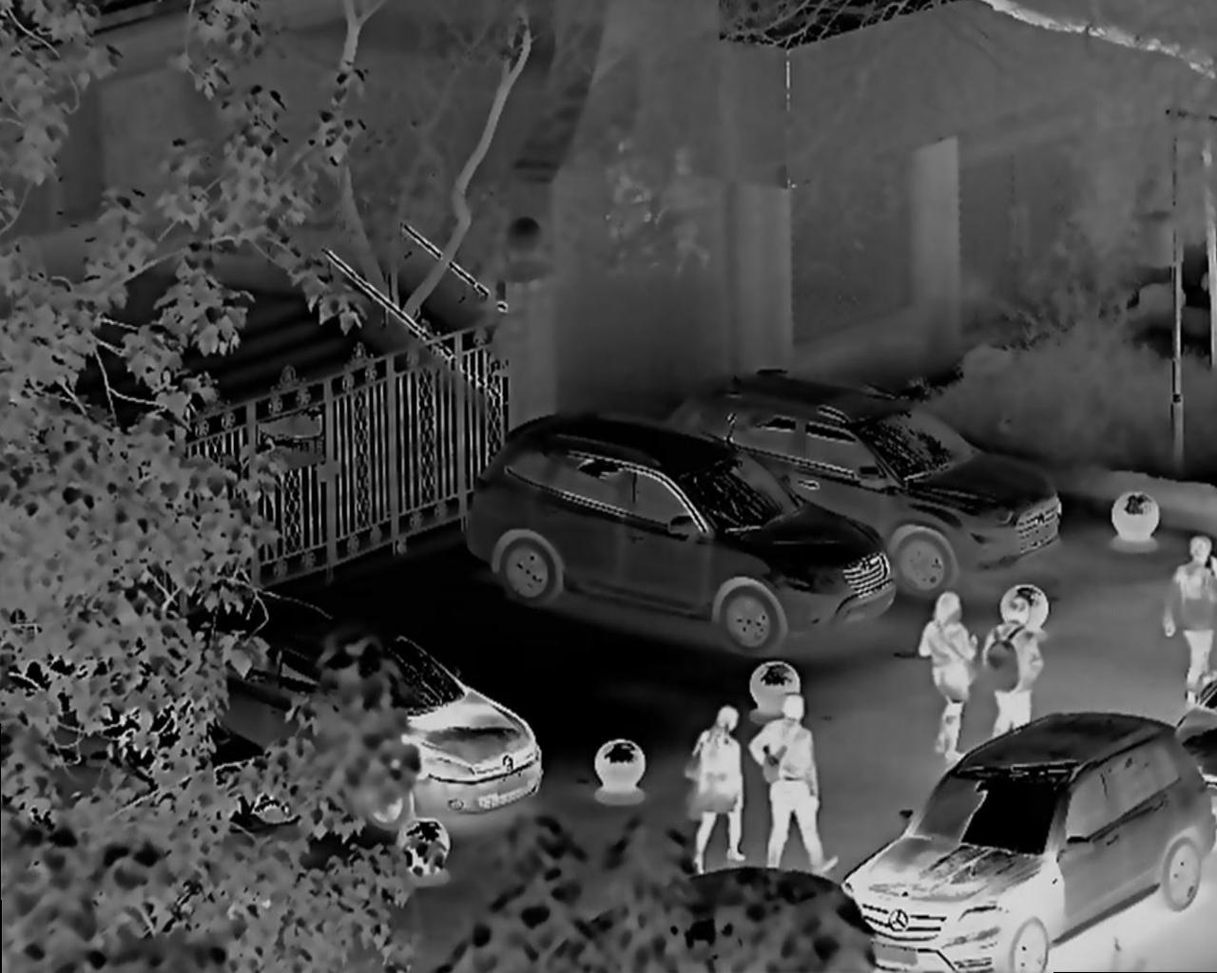person: (751, 684, 845, 888), (978, 588, 1063, 742), (920, 583, 989, 767), (695, 695, 755, 886), (1159, 527, 1217, 715)
